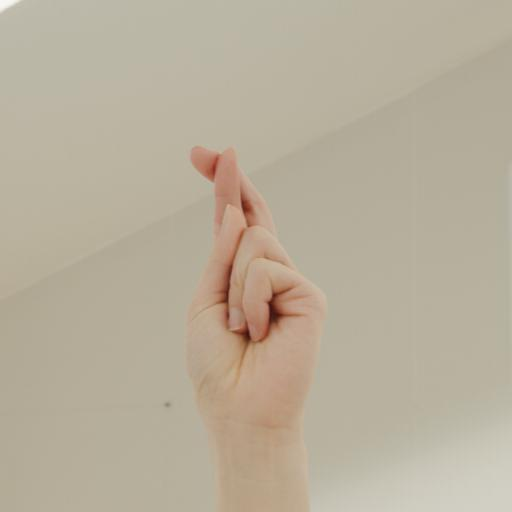R: (170, 137, 333, 445)
